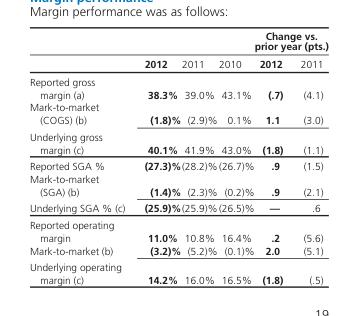table: (28, 29, 327, 285)
table column: (28, 29, 133, 285), (133, 29, 180, 285), (253, 29, 291, 285), (180, 29, 217, 285), (217, 29, 253, 285), (291, 29, 327, 285)
table column header: (28, 29, 327, 72)
table row: (28, 128, 327, 157), (28, 72, 327, 100), (28, 100, 327, 128), (28, 172, 327, 199), (28, 216, 327, 243), (28, 258, 327, 285), (28, 29, 327, 54), (28, 54, 327, 72), (28, 199, 327, 216), (28, 157, 327, 172), (28, 243, 327, 258)
table spanning cell: (133, 29, 180, 72), (253, 29, 327, 54), (180, 29, 217, 72), (217, 29, 253, 72)
